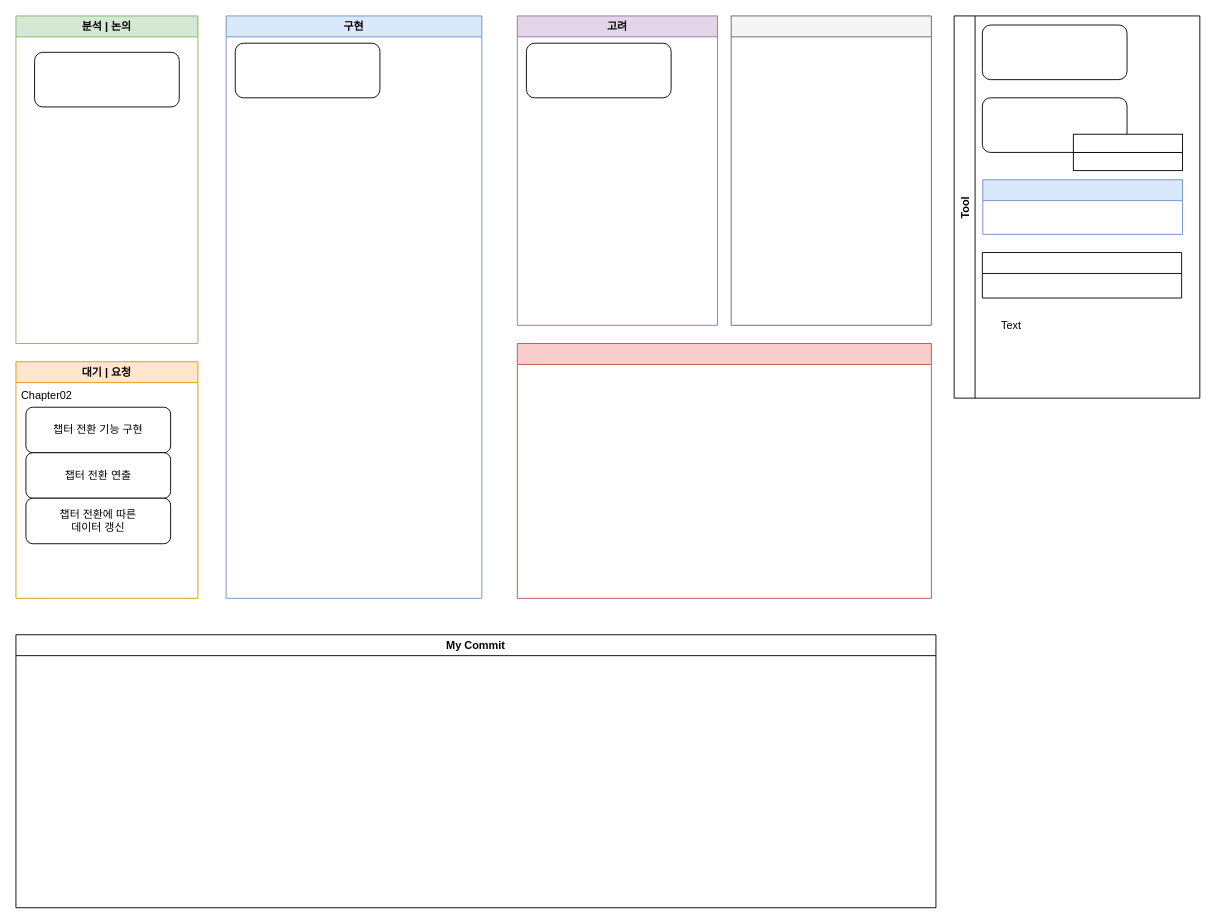
Some shapes in this 1216 by 924 pixel diagram are drawn without their labels. The box of each missing label's shape, as (x1, y1, x2, y2) in pixels:
개발 기획서 분석: (34, 51, 179, 107)
빌드 사양에 따른 위젯 크기 차이 고려: (234, 42, 380, 98)
에러: (516, 343, 931, 598)
탭과 클릭 동작 동일하게 하는지 빌드 후 체크: (526, 42, 671, 98)
폐기 | 완료: (730, 15, 931, 325)
